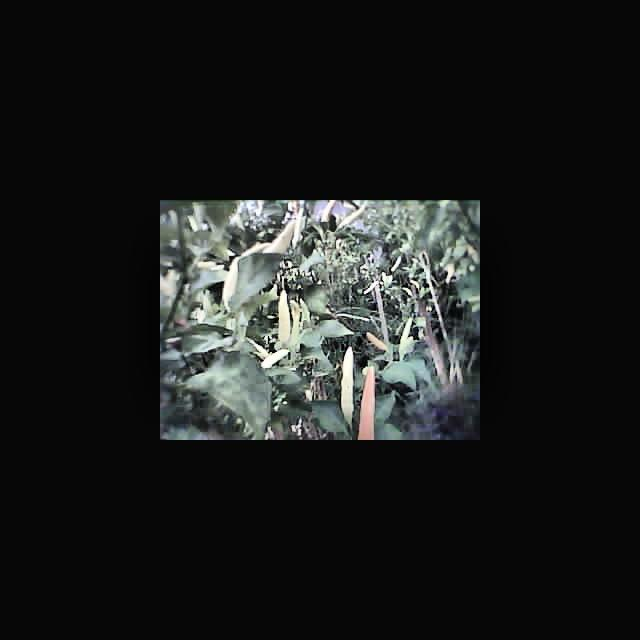Cabai: (358, 365, 385, 440)
